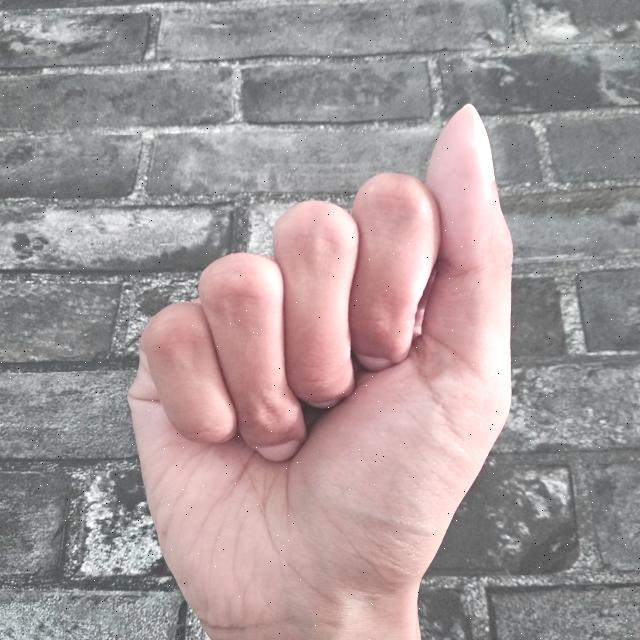A: (123, 86, 529, 640)
